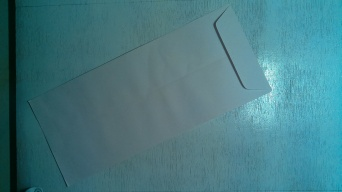l: (24, 7, 279, 191)
